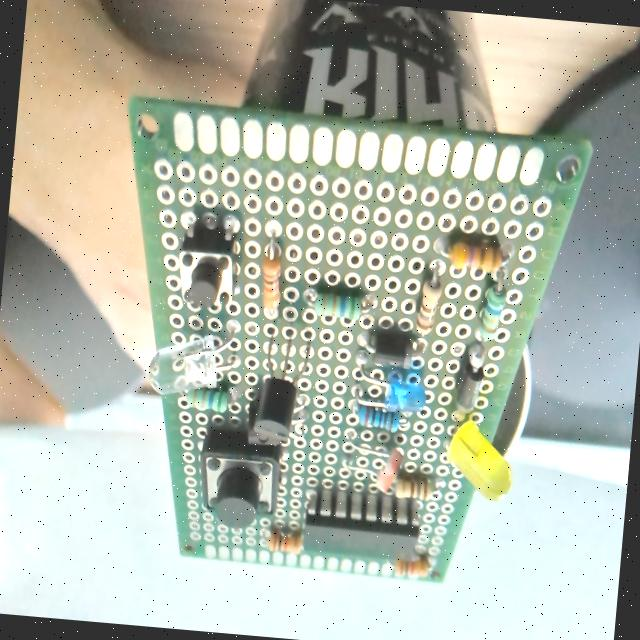IC: (300, 492, 422, 564)
cds: (342, 439, 400, 485)
diode: (350, 330, 418, 368), (453, 346, 487, 413)
led: (146, 316, 244, 404), (441, 418, 517, 504), (352, 359, 427, 416)
resistor: (258, 242, 285, 316), (448, 238, 503, 272), (416, 271, 444, 336), (476, 284, 506, 342), (311, 290, 362, 322), (354, 405, 398, 433), (186, 386, 230, 412), (394, 474, 432, 500), (266, 528, 302, 555), (392, 553, 430, 578)
switch: (194, 428, 285, 528), (173, 219, 243, 316)
transistor: (246, 334, 314, 447)
